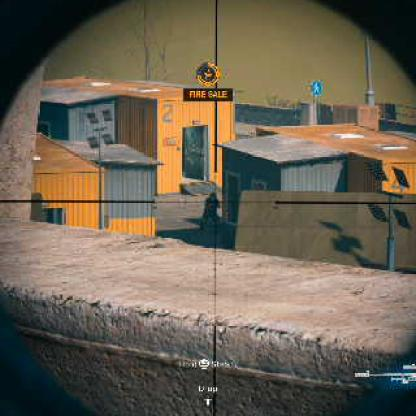enemy: (199, 187, 223, 237)
